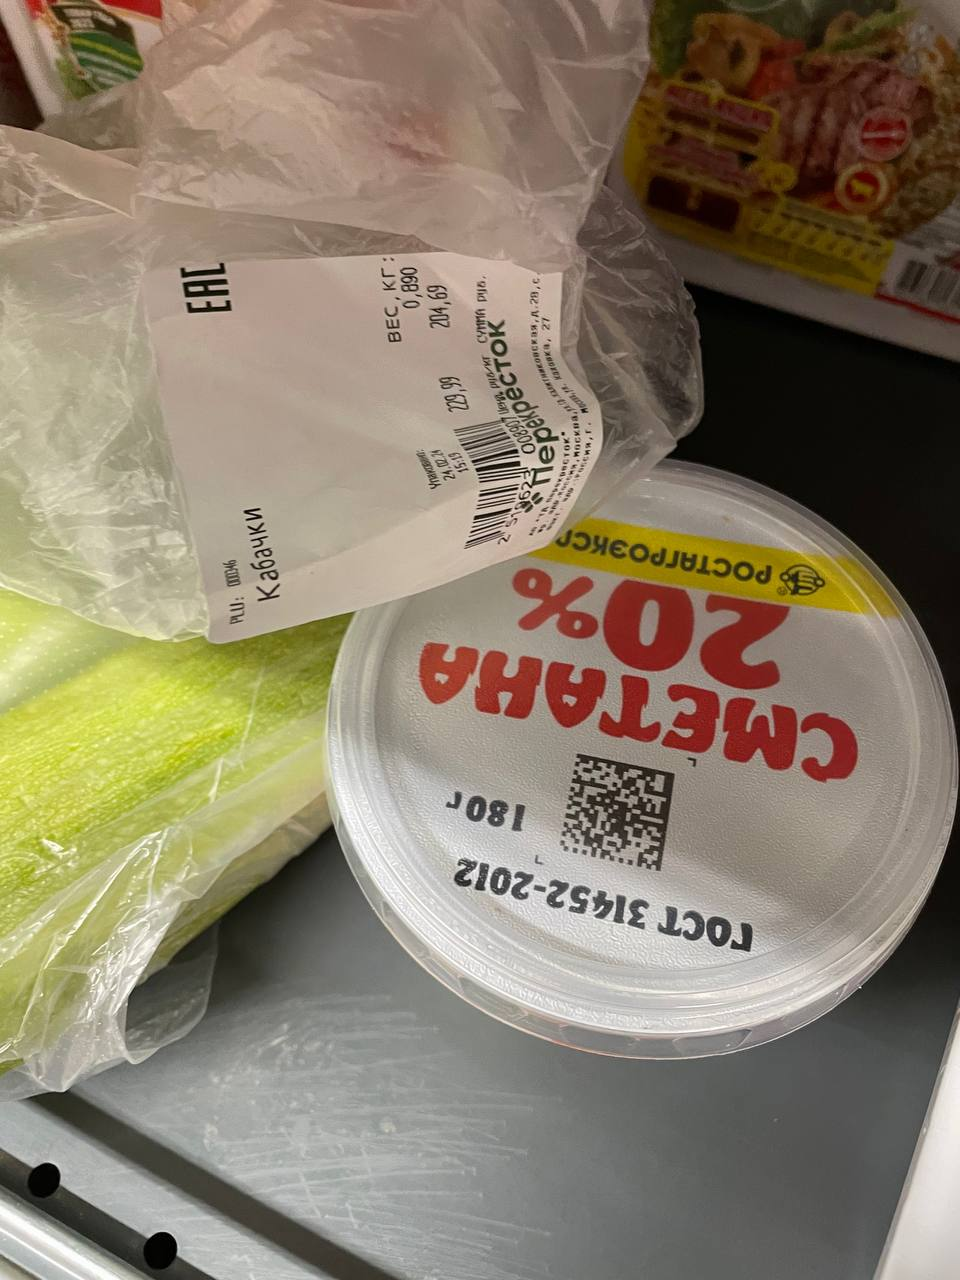1d: (453, 419, 522, 550), (895, 257, 959, 307)
2d: (557, 752, 677, 873)
